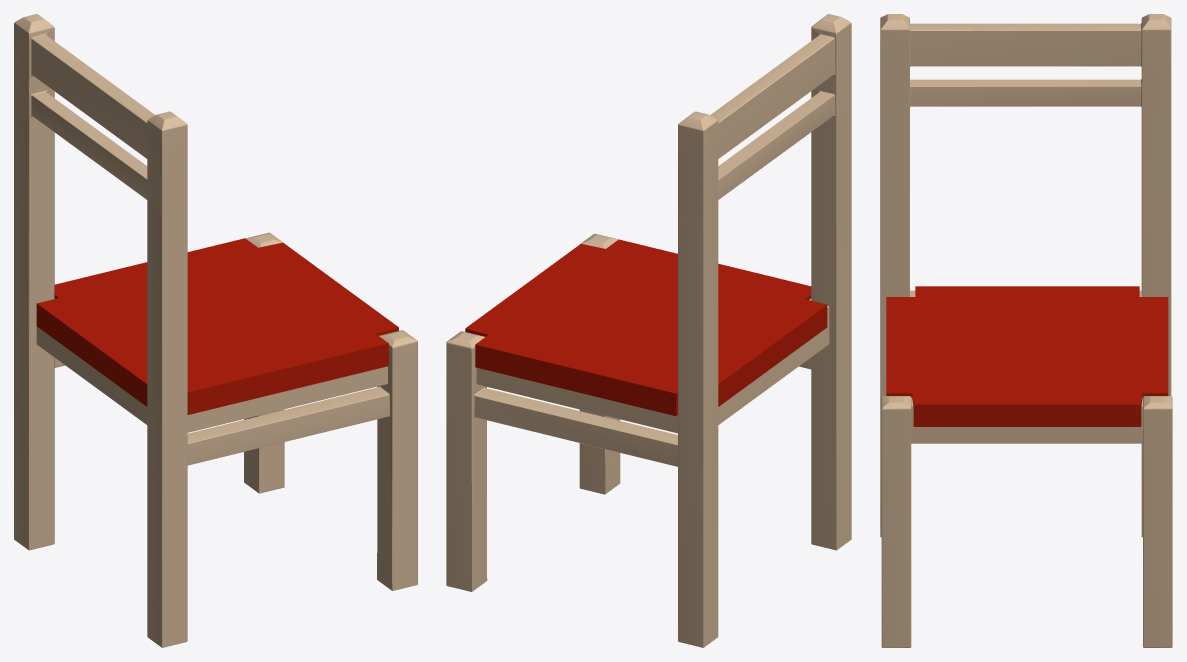
3 renders of one model, left to right at view 1: azimuth 30°, elevation 25°; view 2: azimuth 150°, elevation 25°; view 3: azimuth 270°, elevation 25°, orthographic.
Visible parts, largest first — view 1: Plane; view 2: Plane; view 3: Plane.
Part boxes in pixels (x1,y1,x2,y2): Plane: (14,14,417,647); Plane: (446,14,851,647); Plane: (880,14,1172,647).
Bounding box in the file's own units: 0.5852 × 1.14 × 0.5871.
